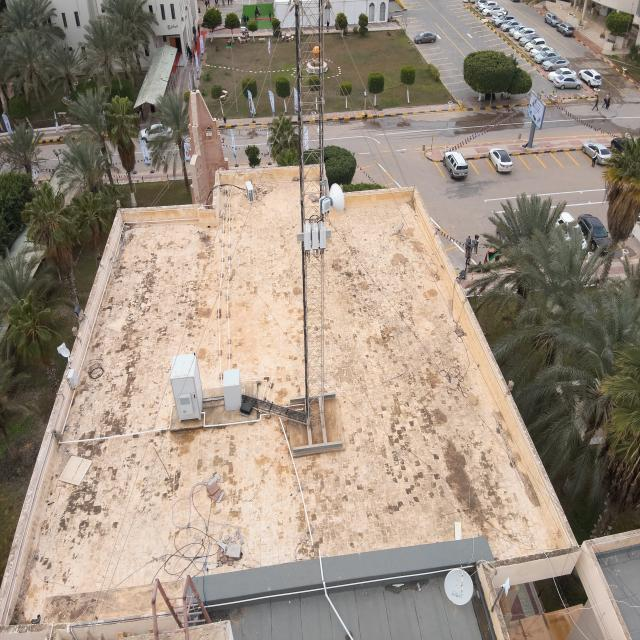microware-dish: (318, 182, 346, 215)
power-box: (302, 219, 329, 251)
